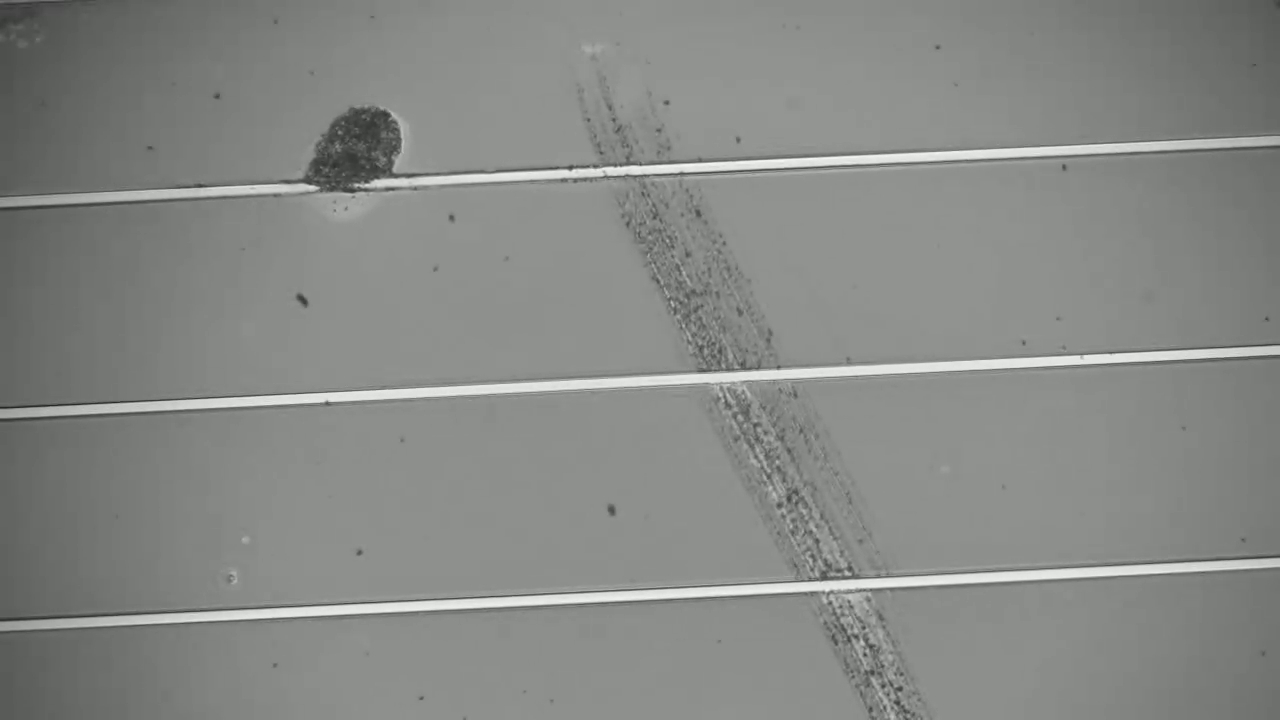scratch: (576, 47, 937, 714)
stains_enbedded: (269, 83, 442, 239)
